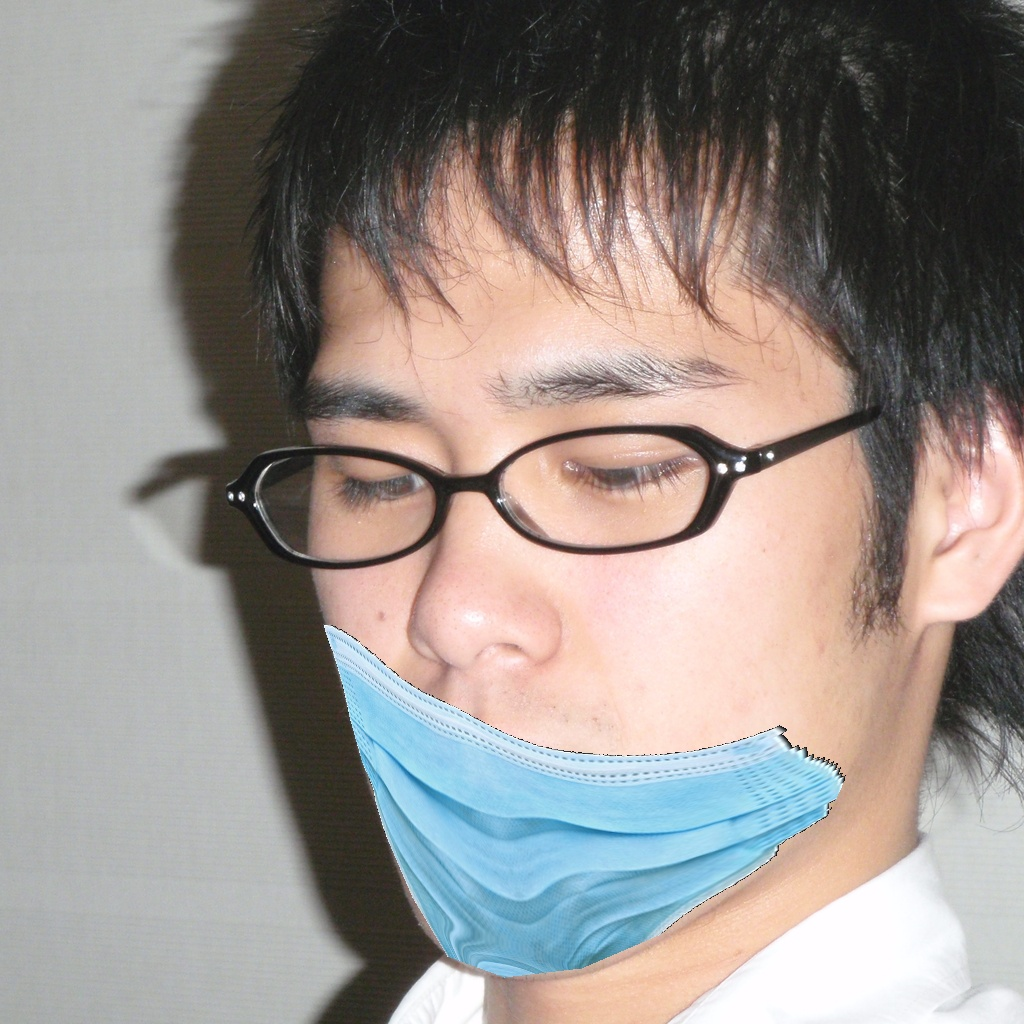mask_weared_incorrect: (266, 344, 942, 993)
